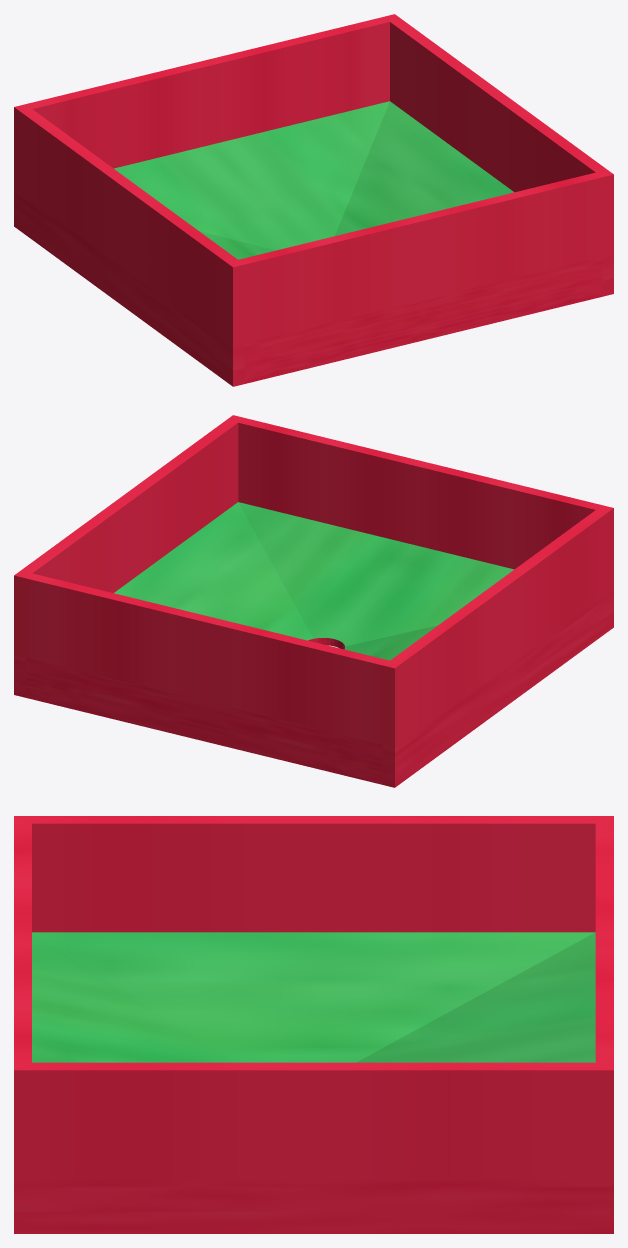
File: HoleWithNoConction 2.fbx
3 views of the same model, one above another, from view 1: azimuth 30°, elevation 25°; view 2: azimuth 150°, elevation 25°; view 3: azimuth 270°, elevation 25° (orthographic). The views are drawn at different scales.
Parts seen in each view (by area): view 1: HoleWithNoConction; view 2: HoleWithNoConction; view 3: HoleWithNoConction.
Boxes of the visible parts, box(x1,y1,x2,y2) form: HoleWithNoConction: box(14, 14, 613, 386); HoleWithNoConction: box(14, 415, 613, 787); HoleWithNoConction: box(14, 816, 613, 1233).
Size of the model in its own units: 100 by 30.07 by 99.98.
Materials: 1 (1 with a texture image).
